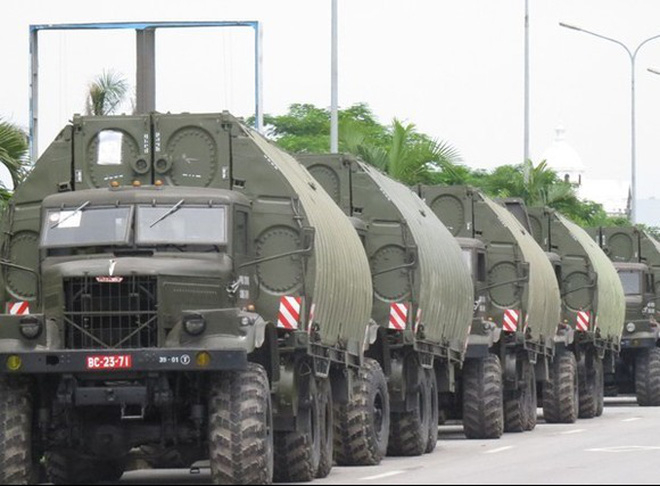plate: (84, 352, 132, 368)
